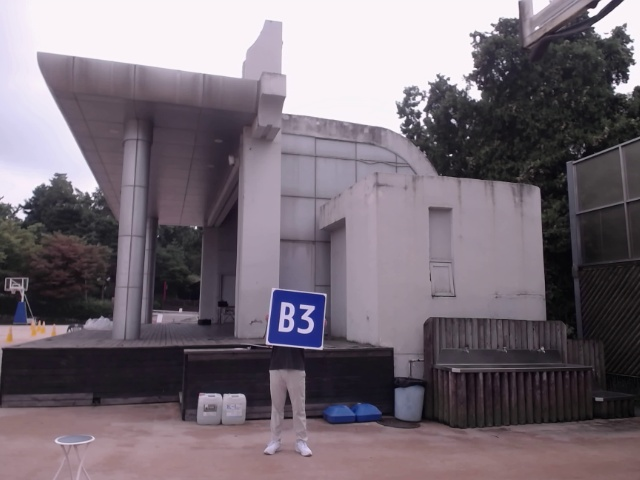delivery_b3: (268, 286, 327, 350)
